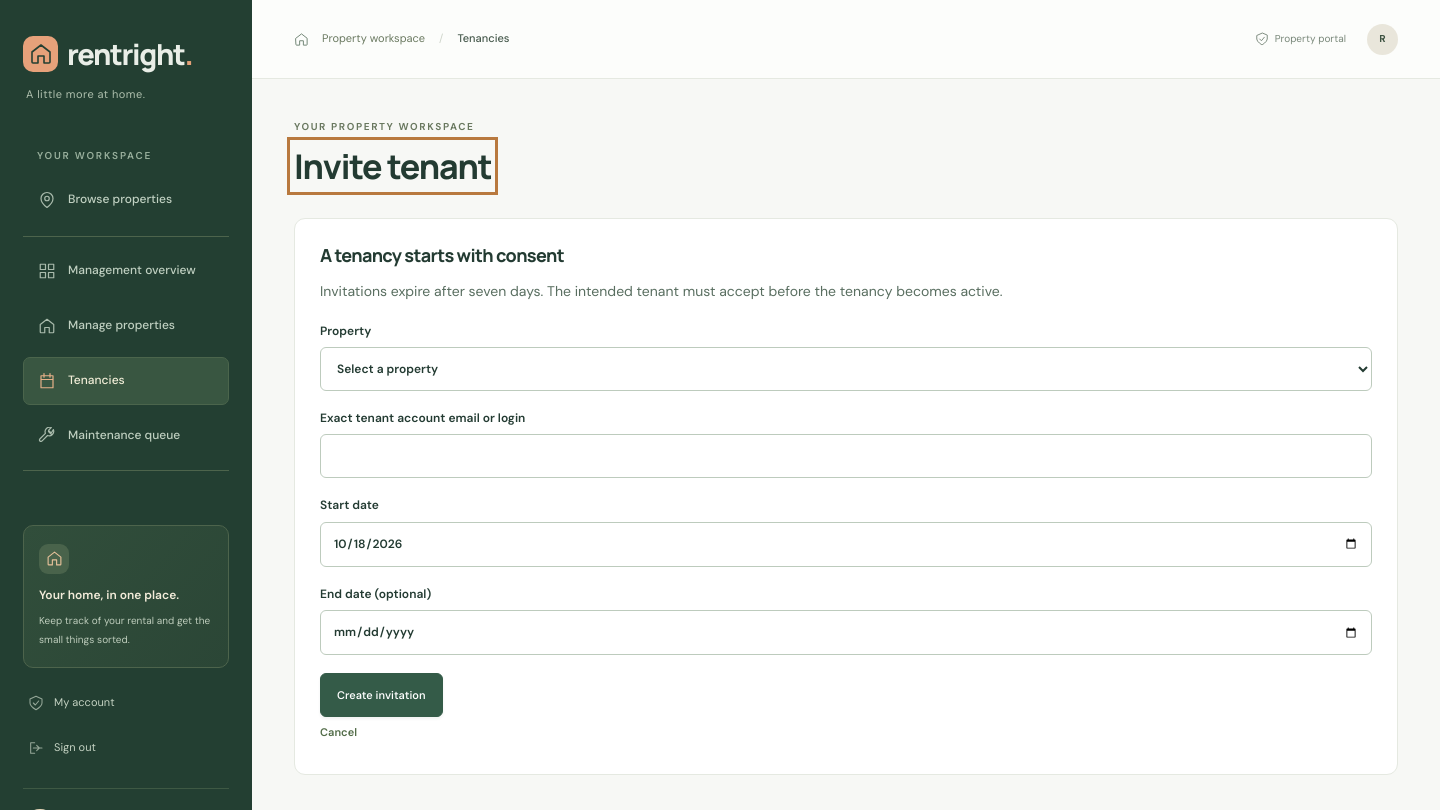
Test case: issues a tenant invitation and keeps its token out of URLs and browser storage
Select "Willow House" in the dropdown labelled "Property" at (846, 369), box [320,347,1372,391]
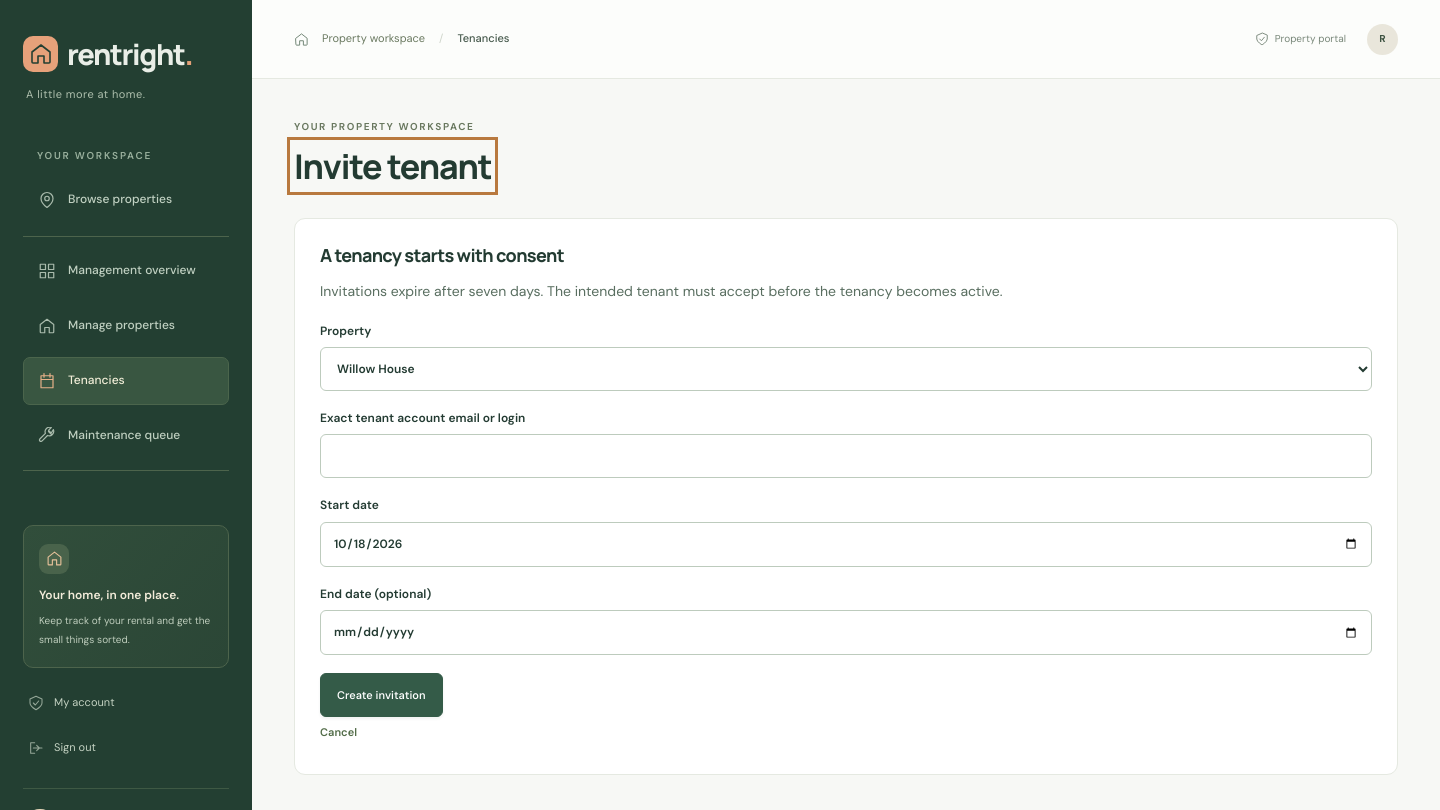
Type "resident@example.test" into the field labelled "Exact tenant account email or login".
click(846, 456); type("resident@example.test")  # box [320,434,1372,478]
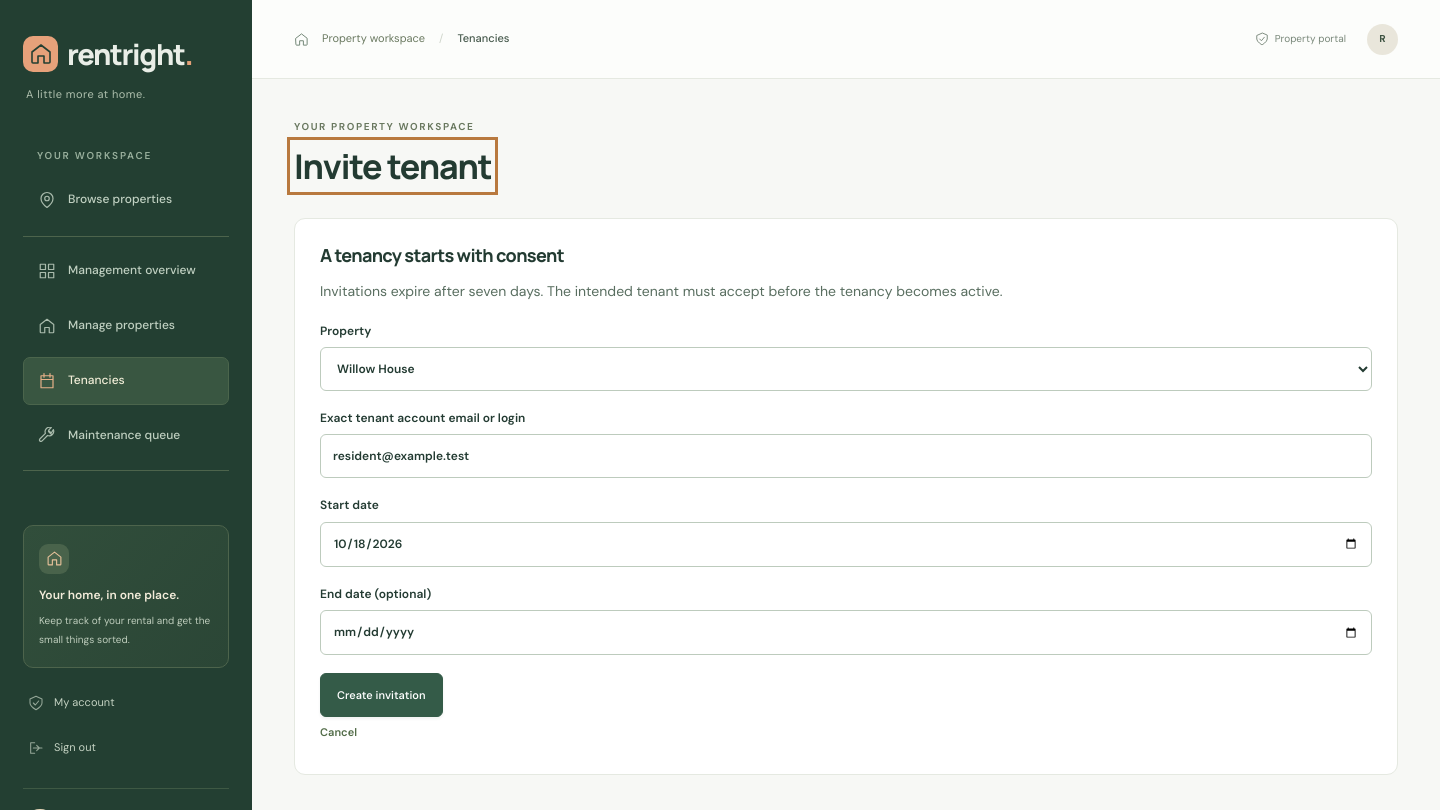
Click the button "Create invitation".
click(381, 695)  # box [320,673,442,717]
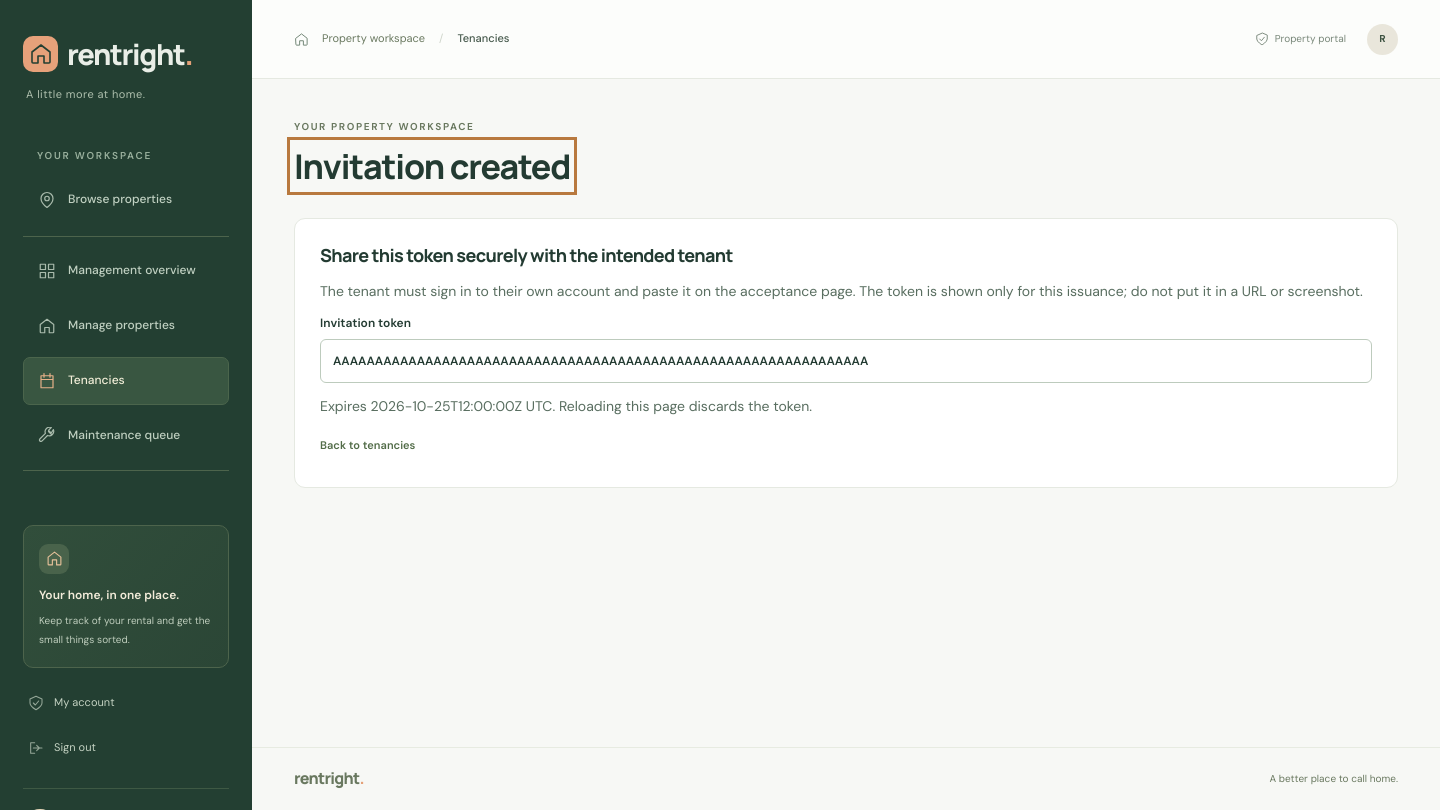
Expected: the heading "Invitation created" is shown, [294,144,570,188]
